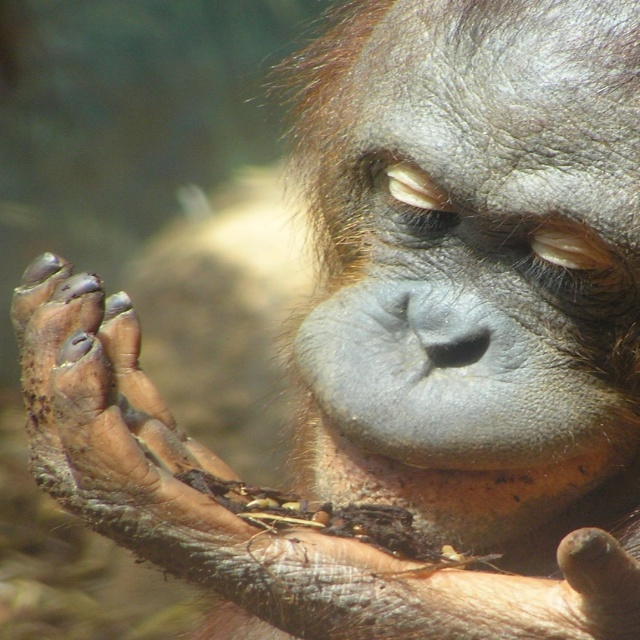Monkey: (7, 0, 639, 640)
